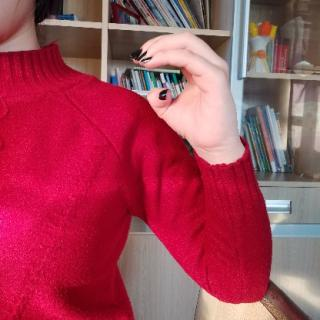JEEM: (128, 28, 252, 154)
